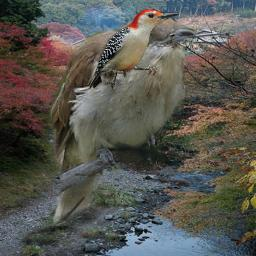Cuckoo: (46, 11, 196, 226)
Woodpecker: (88, 9, 179, 90)
